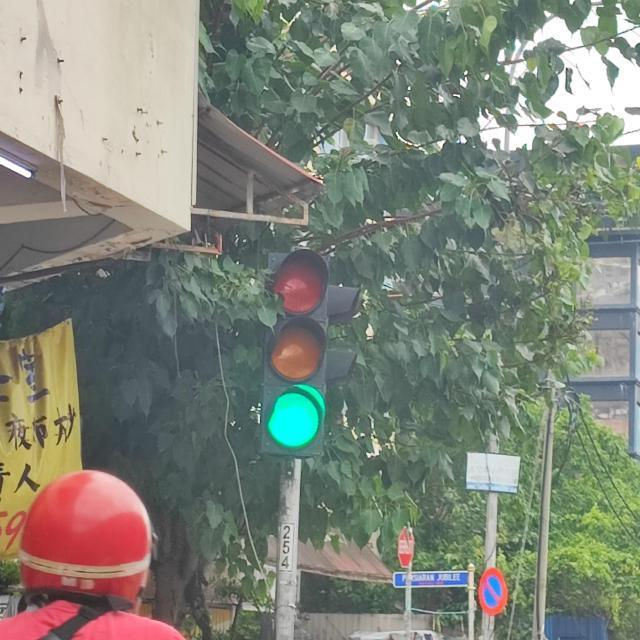green_light: (260, 248, 330, 456)
